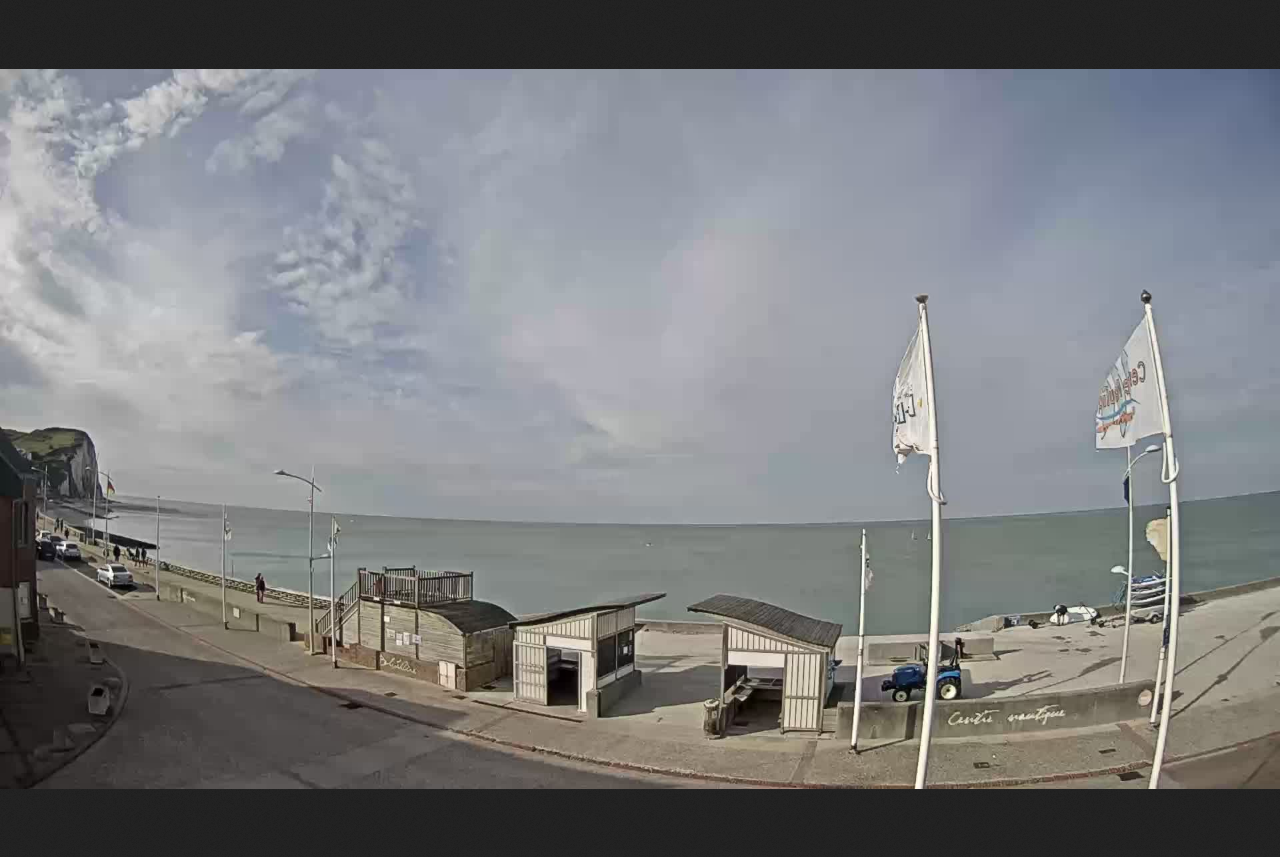yes: (1092, 309, 1169, 435), (891, 318, 940, 463)
